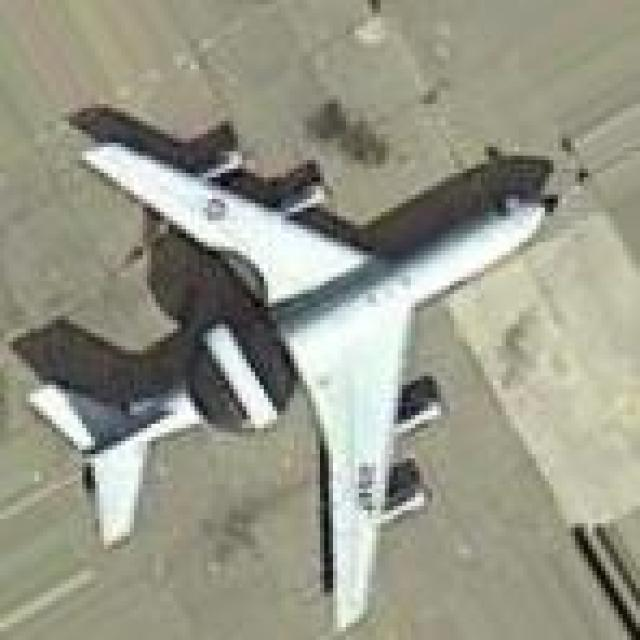E-3_TopDown: (4, 95, 558, 631)
